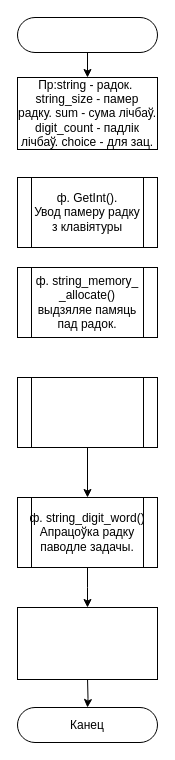
Image size: 175x760. Some labels were removed from this diagram. The shapes that lost their labels are listed below. From the top down, each one's centre as x and y in pixels, then its label:
At (x=87, y=34): "Пачатак".
At (x=87, y=412): "ф string_input(). Увод радку з клавіятуры".
At (x=87, y=643): "Вывад апрацаванага радку string на экран.".
